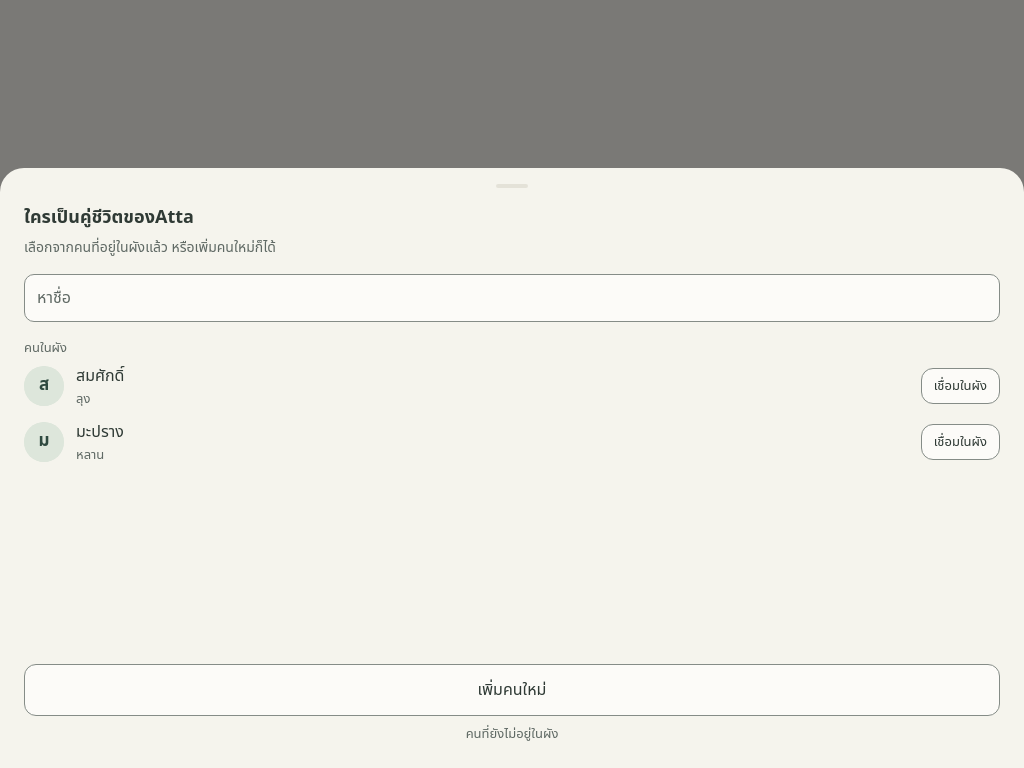
Test: PickExistingPersonSheet › filters the list by display name and nickname
Expected: the text "สมศักดิ์" is shown, [76,364,124,388]
Type "ลุง" into the field labelled "หาชื่อ" at (512, 298), box [24,274,1000,322]
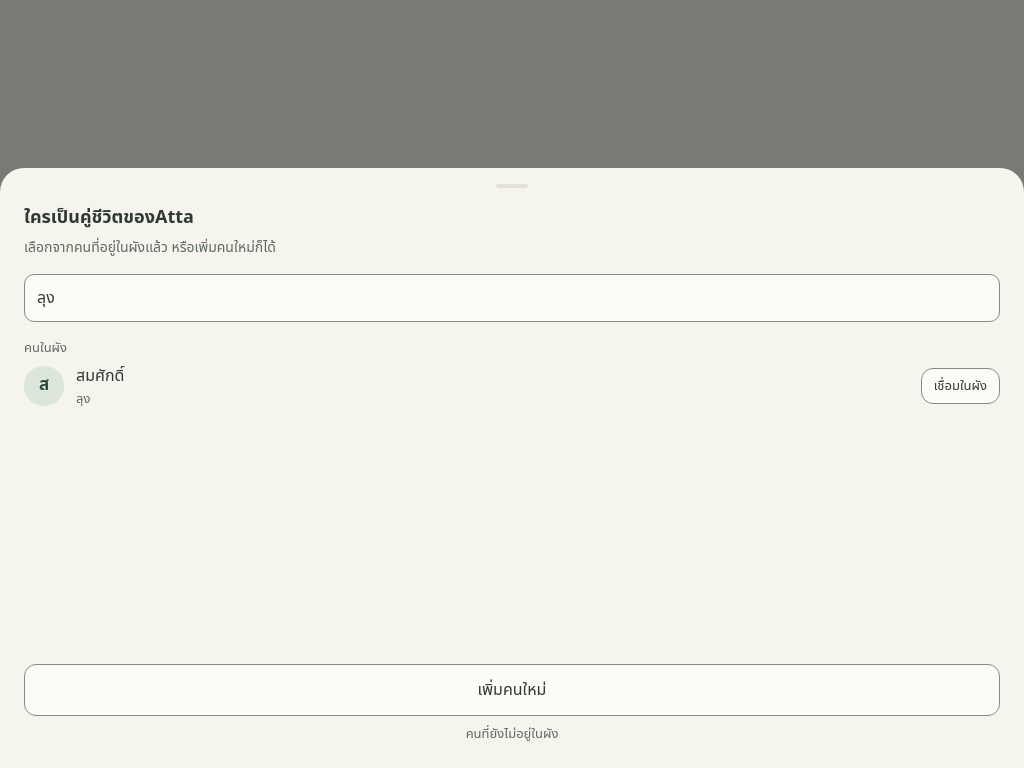
Expected: the text "สมศักดิ์" is shown, [76,364,124,388]
Result: the text "มะปราง" is gone
